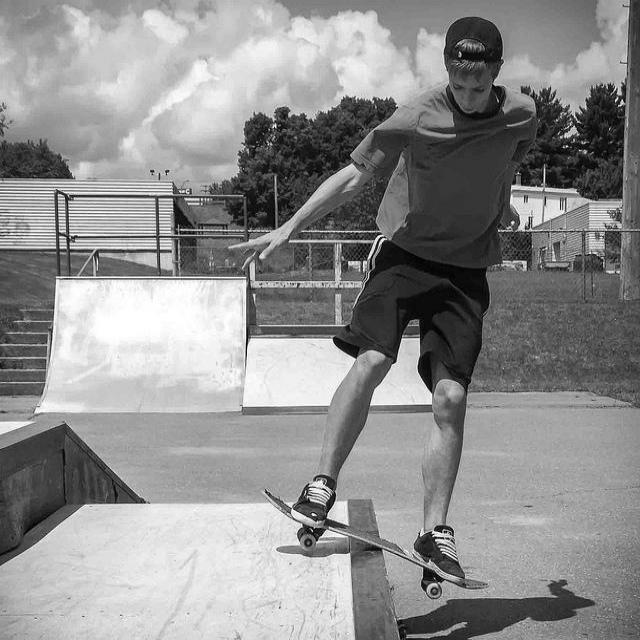vehicle: (491, 263, 517, 271), (605, 263, 620, 275)
